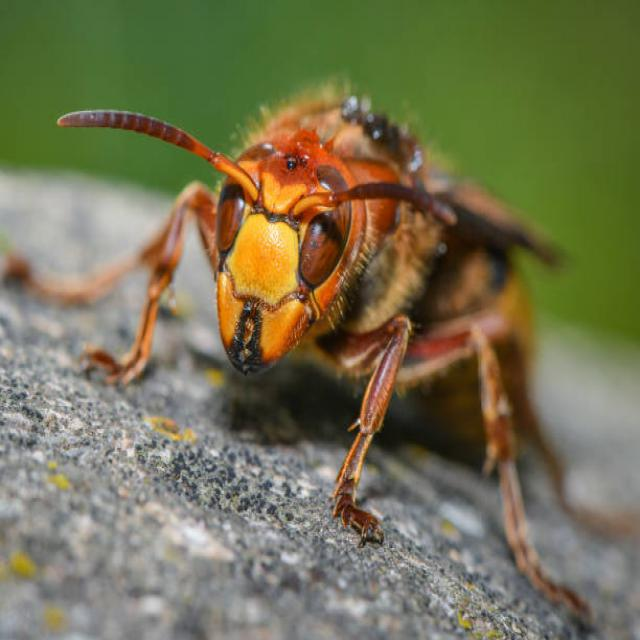Vespa Crabro: (26, 41, 602, 638)
